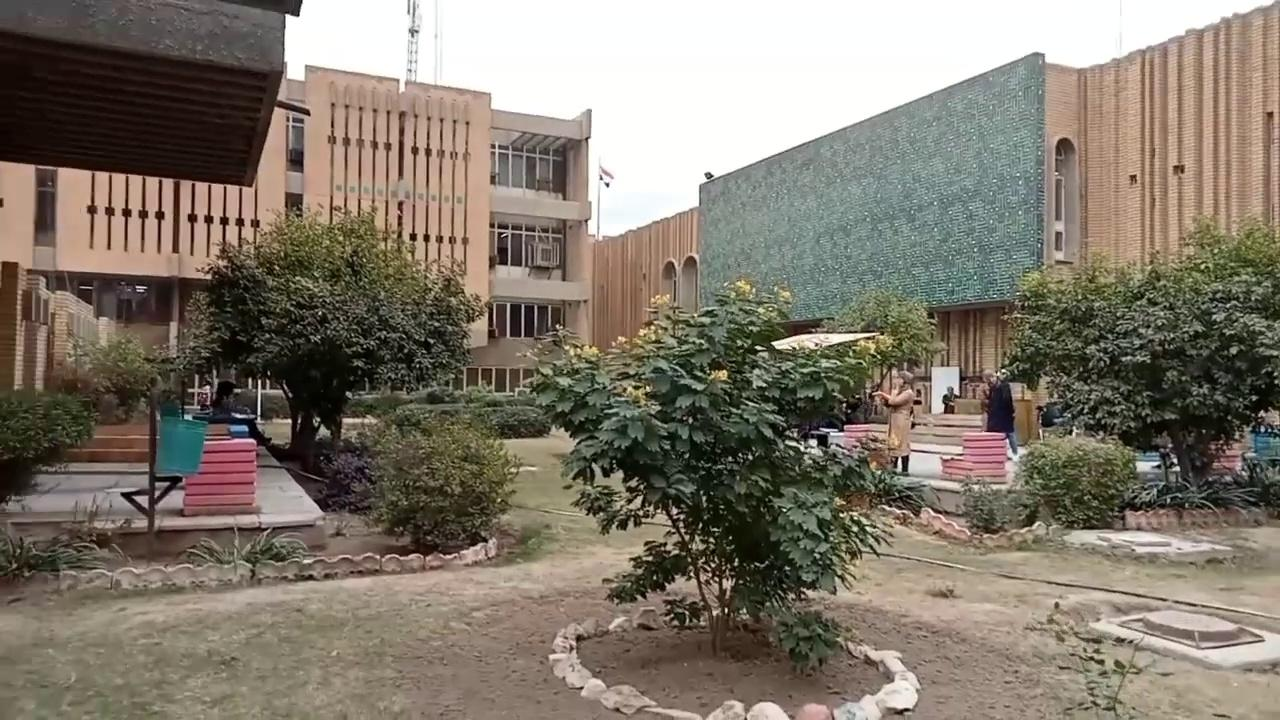person: (872, 370, 915, 474), (207, 379, 272, 446), (980, 368, 1019, 461), (1153, 428, 1173, 469), (941, 385, 957, 413)
tree: (514, 276, 932, 674), (167, 198, 489, 471), (996, 212, 1279, 494), (356, 404, 522, 554), (832, 285, 948, 412), (62, 326, 198, 423), (1010, 432, 1140, 529), (0, 383, 97, 505)
